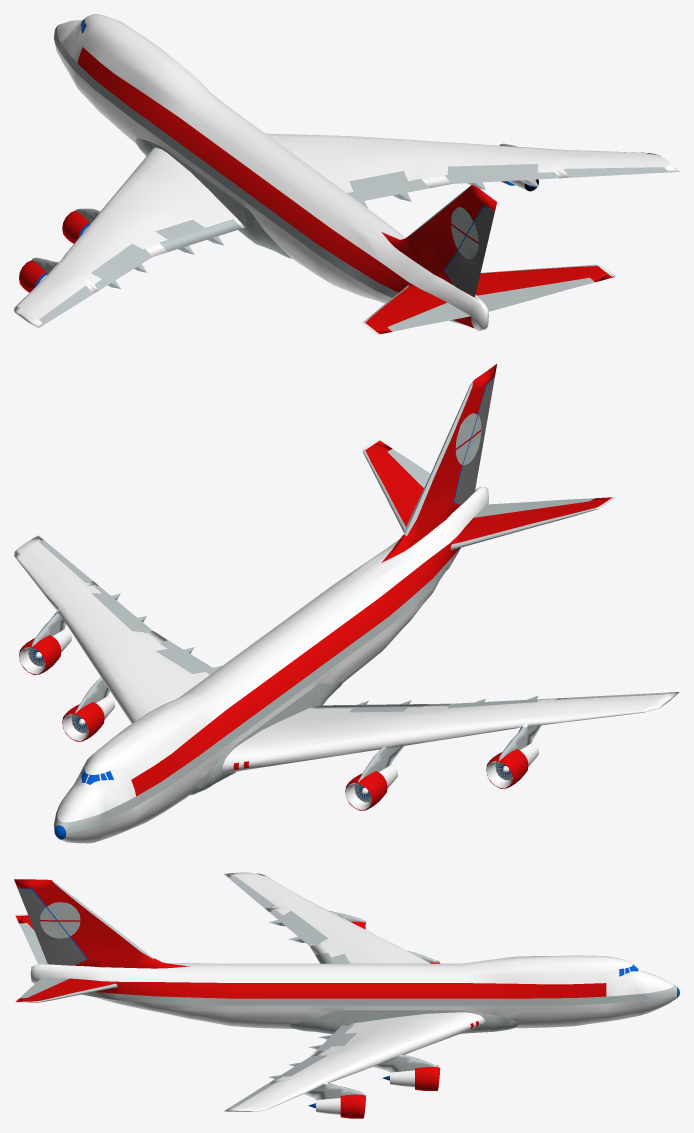
3 renders of one model, top to bottom at view 1: azimuth 30°, elevation 25°; view 2: azimuth 150°, elevation 25°; view 3: azimuth 270°, elevation 25°, orthographic. The views are drawn at different scales.
Parts seen in each view (by area): view 1: MAIN_FUSEL, UPPER_STRI, WING_BOX_A, LOGO___STR, RUDDER; view 2: MAIN_FUSEL, UPPER_STRI, WING_BOX_A, LOGO___STR, RUDDER, BLACK_TRIM; view 3: MAIN_FUSEL, UPPER_STRI, WING_BOX_A, LOGO___STR, RUDDER.
Part boxes in pixels (x1,y1,x2,y2): MAIN_FUSEL: (14,14,679,334); UPPER_STRI: (19,47,614,334); WING_BOX_A: (32,138,668,331); LOGO___STR: (53,24,597,325); RUDDER: (444,207,494,296); MAIN_FUSEL: (14,438,679,843); UPPER_STRI: (19,364,612,810); WING_BOX_A: (28,449,667,802); LOGO___STR: (53,382,597,833); RUDDER: (454,377,494,504); BLACK_TRIM: (29,378,511,839); MAIN_FUSEL: (14,872,676,1114); UPPER_STRI: (14,879,606,1118); WING_BOX_A: (19,876,518,1108); LOGO___STR: (38,880,676,1005); RUDDER: (17,888,86,965).
Bounding box in the file's own units: 498 × 154 × 587.
